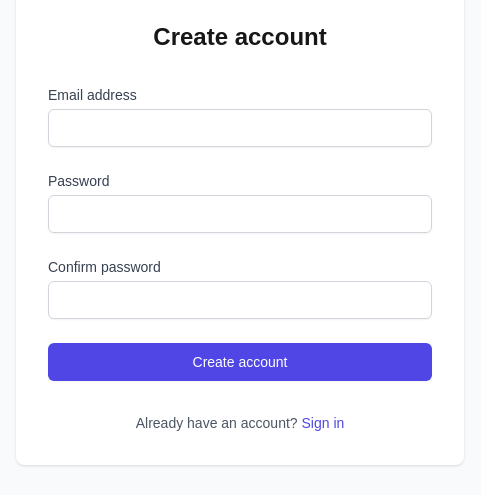
Test: RegisterPage › shows inline error when passwords do not match and makes no network request
Type "alice@example.com" into the field labelled "Email address" at (240,128), box x1=48 y1=109 x2=432 y2=147
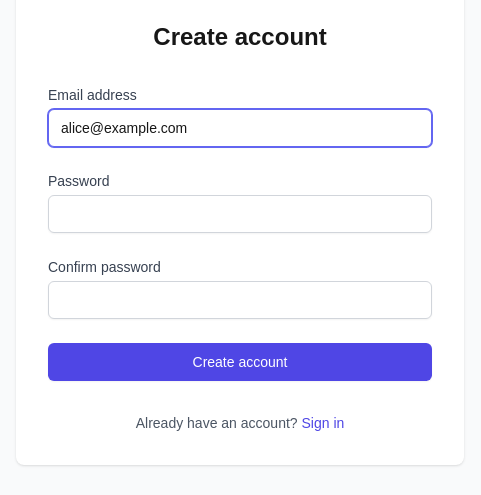
Type "securepass" into the password field labelled "Password" at (240,214), box x1=48 y1=195 x2=432 y2=233
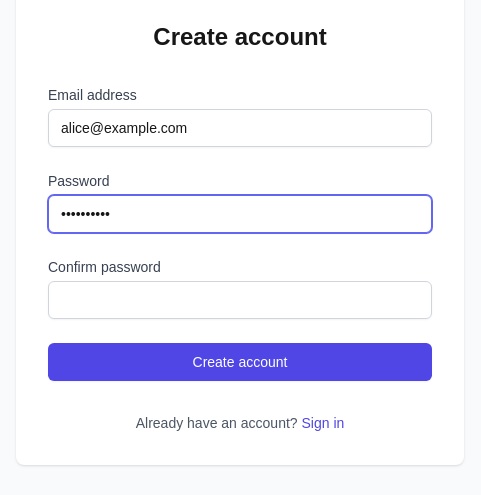
Type "different1" into the password field labelled "Confirm password" at (240,300), box x1=48 y1=281 x2=432 y2=319
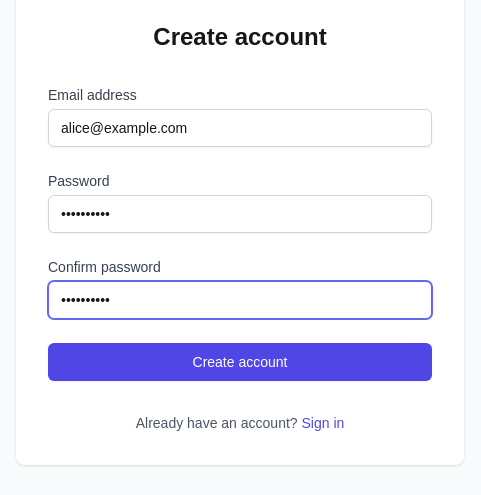
Click the button "Create account" at (240,362), box x1=48 y1=343 x2=432 y2=381
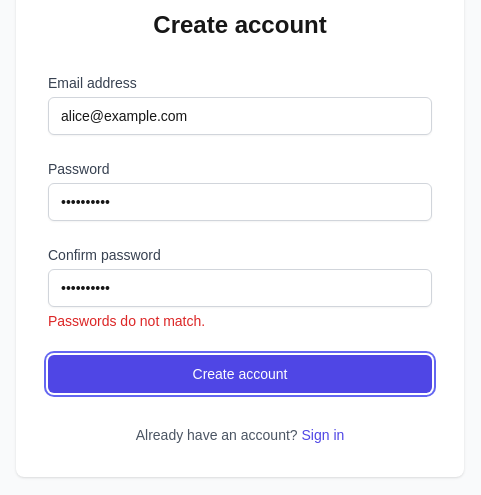
Expected: the text "Passwords do not match." is shown, x1=48 y1=313 x2=205 y2=329
